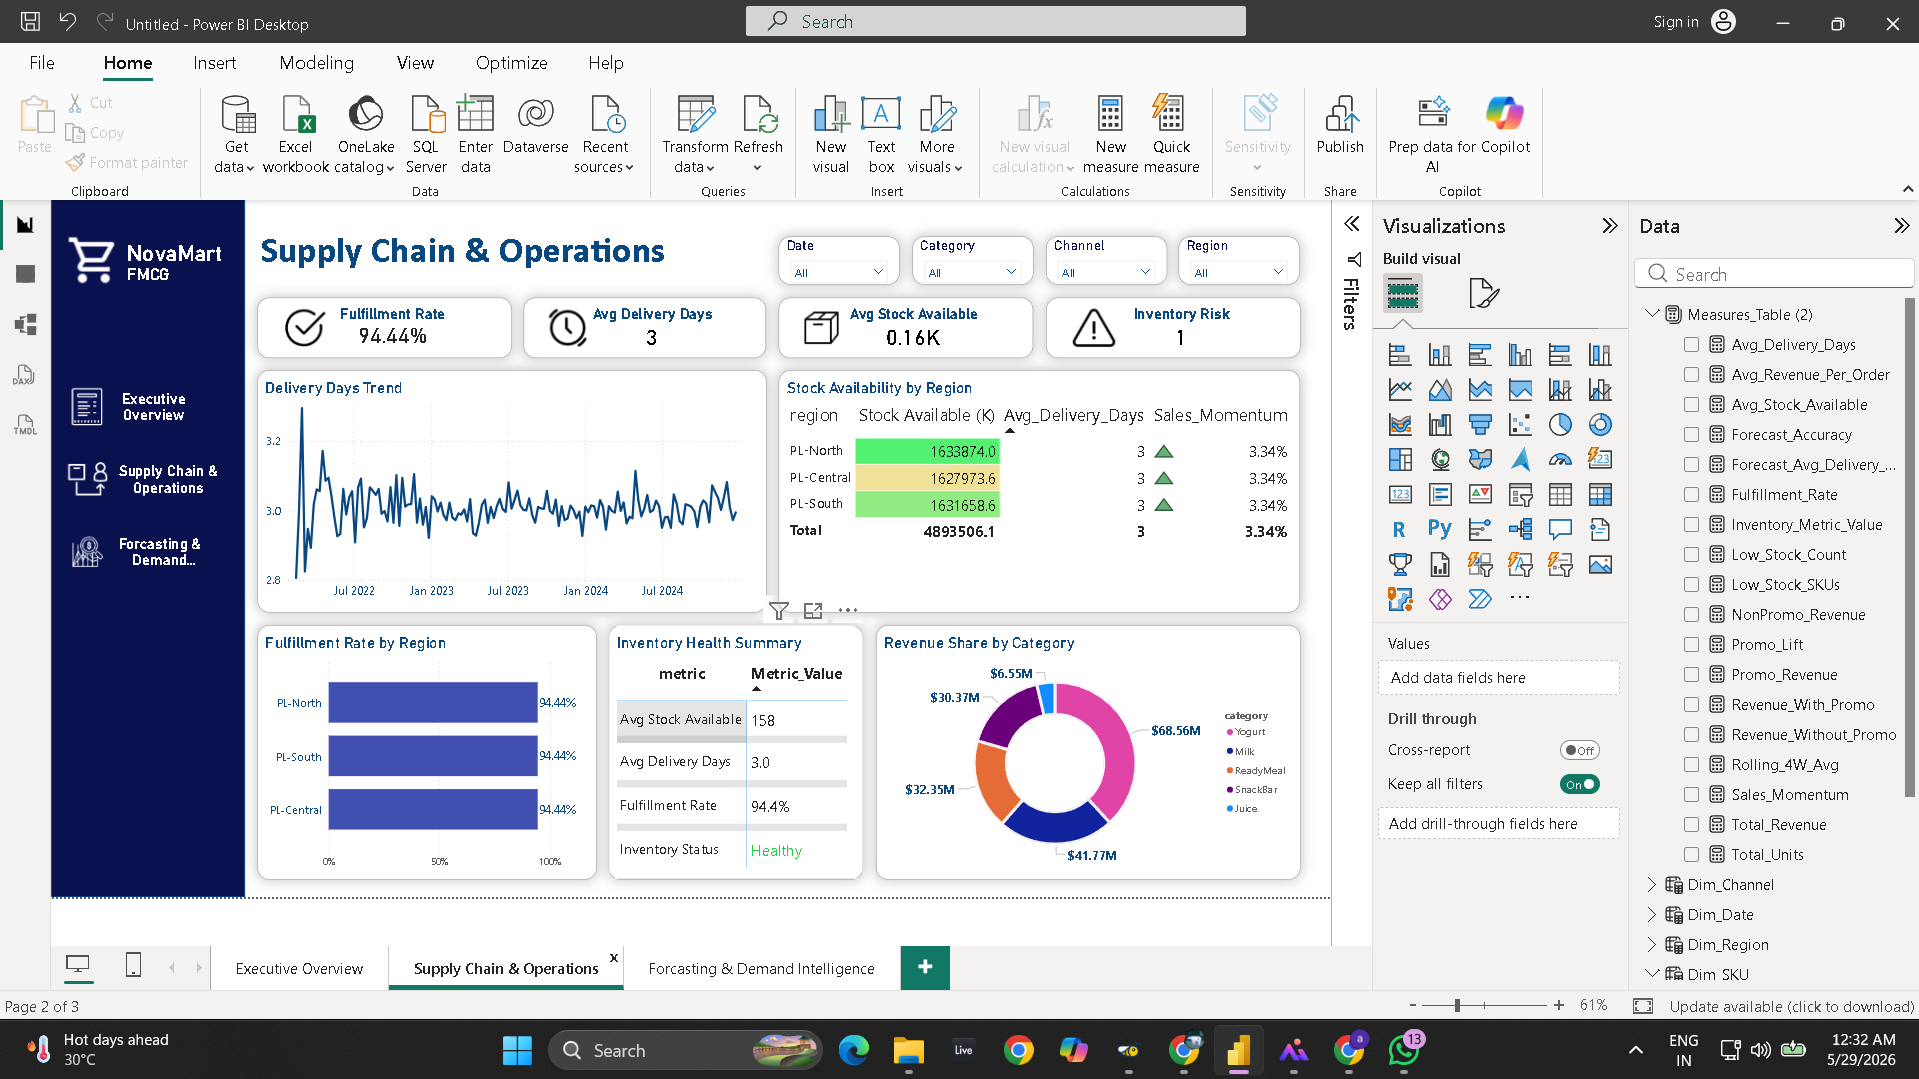

The dashboard page shown, as its layout file describes it:
{"tool":"powerbi","page":{"name":"Supply Chain & Operations","canvas":[1688,920],"ordinal":1},"visuals":[{"type":"shape","box":[0,-8,256,928],"z":0},{"type":"actionButton","box":[16,240,208,64],"z":1000},{"type":"actionButton","box":[16,336,208,64],"z":2000},{"type":"actionButton","box":[16,32,80,96],"z":3000},{"type":"textbox","box":[96,48,144,48],"z":4000},{"type":"textbox","box":[96,80,80,48],"z":5000},{"type":"actionButton","box":[16,432,208,64],"z":6000},{"type":"textbox","box":[272,32,560,80],"z":7000},{"type":"slicer","title":"Date","fields":{"Values":["Dim_Date.Date"]},"box":[960,48,160,64],"z":8000},{"type":"slicer","title":"Category","fields":{"Values":["Dim_SKU.category"]},"box":[1136,48,160,64],"z":9000},{"type":"slicer","title":"Channel","fields":{"Values":["Dim_Channel.channel"]},"box":[1312,48,160,64],"z":10000},{"type":"slicer","title":"Region","fields":{"Values":["Dim_Region.region"]},"box":[1488,48,160,64],"z":11000},{"type":"card","title":"Avg Delivery Days","fields":{"Values":["Measures_Table (2).Avg_Delivery_Days"]},"box":[624,128,320,80],"z":12000},{"type":"card","title":"Fulfillment Rate","fields":{"Values":["Measures_Table (2).Fulfillment_Rate"]},"box":[272,128,336,80],"z":13000},{"type":"actionButton","box":[304,128,64,80],"z":14000},{"type":"actionButton","box":[650,128,64,80],"z":15000},{"type":"lineChart","title":"Delivery Days Trend","fields":{"Y":["Measures_Table (2).Forecast_Avg_Delivery_Days"],"Category":["Fact_Forecast.week.Variation.Date Hierarchy.Year","Fact_Forecast.week.Variation.Date Hierarchy.Quarter","Fact_Forecast.week.Variation.Date Hierarchy.Month","Fact_Forecast.week.Variation.Date Hierarchy.Day"]},"box":[272,224,672,320],"z":16000},{"type":"card","title":"Avg Stock Available","fields":{"Values":["Measures_Table (2).Avg_Stock_Available"]},"box":[960,128,336,80],"z":17000},{"type":"card","title":"Inventory Risk ","fields":{"Values":["Measures_Table (2).Low_Stock_SKUs"]},"box":[1312,128,336,80],"z":18000},{"type":"actionButton","box":[985,128,64,80],"z":19000},{"type":"actionButton","box":[1344,128,64,80],"z":20000},{"type":"clusteredBarChart","title":"Fulfillment Rate by Region","fields":{"Y":["Measures_Table (2).Fulfillment_Rate"],"Category":["Fact_Enriched.region"]},"box":[272,560,448,336],"z":21000},{"type":"pivotTable","title":"Inventory Health Summary","fields":{"Values":["Measures_Table (2).Inventory_Metric_Value"],"Rows":["Inventory_Metrics.metric"]},"box":[736,560,336,336],"z":22000},{"type":"pivotTable","title":"Stock Availability by Region","fields":{"Values":["Sum(Fact_Forecast.stock_available)","Measures_Table (2).Avg_Delivery_Days","Measures_Table (2).Sales_Momentum"],"Rows":["Fact_Enriched.region"]},"box":[960,224,688,320],"z":23000},{"type":"donutChart","title":"Revenue Share by Category","fields":{"Category":["Dim_SKU.category"],"Y":["Measures_Table (2).Total_Revenue"]},"box":[1088,560,560,336],"z":24000}]}

Visuals, with their boxes on the page's 1688x920 design canvas (x1, y1, x2, y2). These are canvas units, not pixel positions in the 1919x1079 screenshot, which may show the page scaled, cropped or inside an application window:
shape: (x1=0, y1=-8, x2=256, y2=920)
actionButton: (x1=16, y1=240, x2=224, y2=304)
actionButton: (x1=16, y1=336, x2=224, y2=400)
actionButton: (x1=16, y1=32, x2=96, y2=128)
textbox: (x1=96, y1=48, x2=240, y2=96)
textbox: (x1=96, y1=80, x2=176, y2=128)
actionButton: (x1=16, y1=432, x2=224, y2=496)
textbox: (x1=272, y1=32, x2=832, y2=112)
"Date" slicer: (x1=960, y1=48, x2=1120, y2=112)
"Category" slicer: (x1=1136, y1=48, x2=1296, y2=112)
"Channel" slicer: (x1=1312, y1=48, x2=1472, y2=112)
"Region" slicer: (x1=1488, y1=48, x2=1648, y2=112)
"Avg Delivery Days" card: (x1=624, y1=128, x2=944, y2=208)
"Fulfillment Rate" card: (x1=272, y1=128, x2=608, y2=208)
actionButton: (x1=304, y1=128, x2=368, y2=208)
actionButton: (x1=650, y1=128, x2=714, y2=208)
"Delivery Days Trend" lineChart: (x1=272, y1=224, x2=944, y2=544)
"Avg Stock Available" card: (x1=960, y1=128, x2=1296, y2=208)
"Inventory Risk " card: (x1=1312, y1=128, x2=1648, y2=208)
actionButton: (x1=985, y1=128, x2=1049, y2=208)
actionButton: (x1=1344, y1=128, x2=1408, y2=208)
"Fulfillment Rate by Region" clusteredBarChart: (x1=272, y1=560, x2=720, y2=896)
"Inventory Health Summary" pivotTable: (x1=736, y1=560, x2=1072, y2=896)
"Stock Availability by Region" pivotTable: (x1=960, y1=224, x2=1648, y2=544)
"Revenue Share by Category" donutChart: (x1=1088, y1=560, x2=1648, y2=896)
